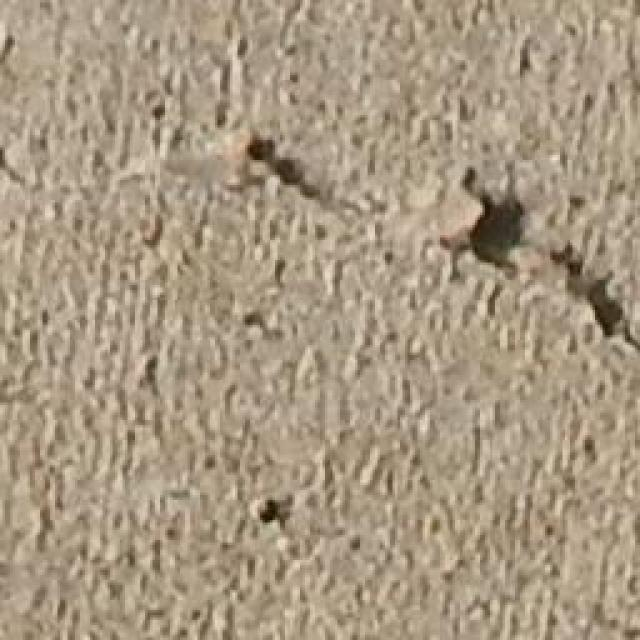concrete-crack: (430, 166, 640, 354)
